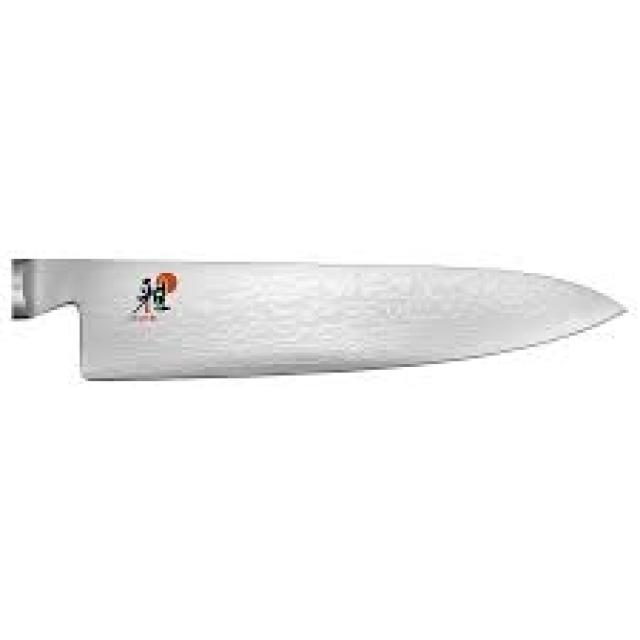Knife: (8, 256, 626, 381)
